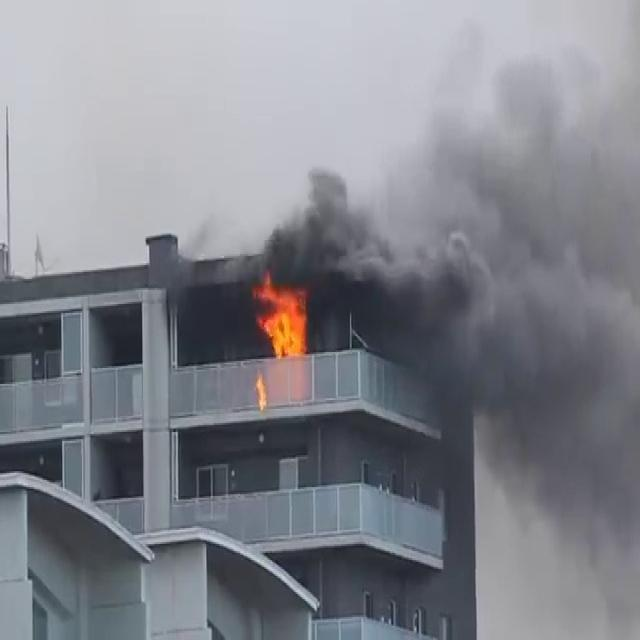Fire: (248, 270, 314, 364)
Smoke: (260, 20, 640, 552)
